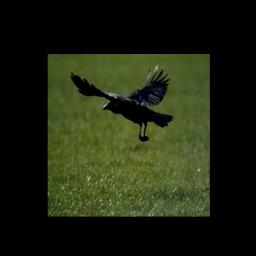Crow: (70, 61, 174, 142)
